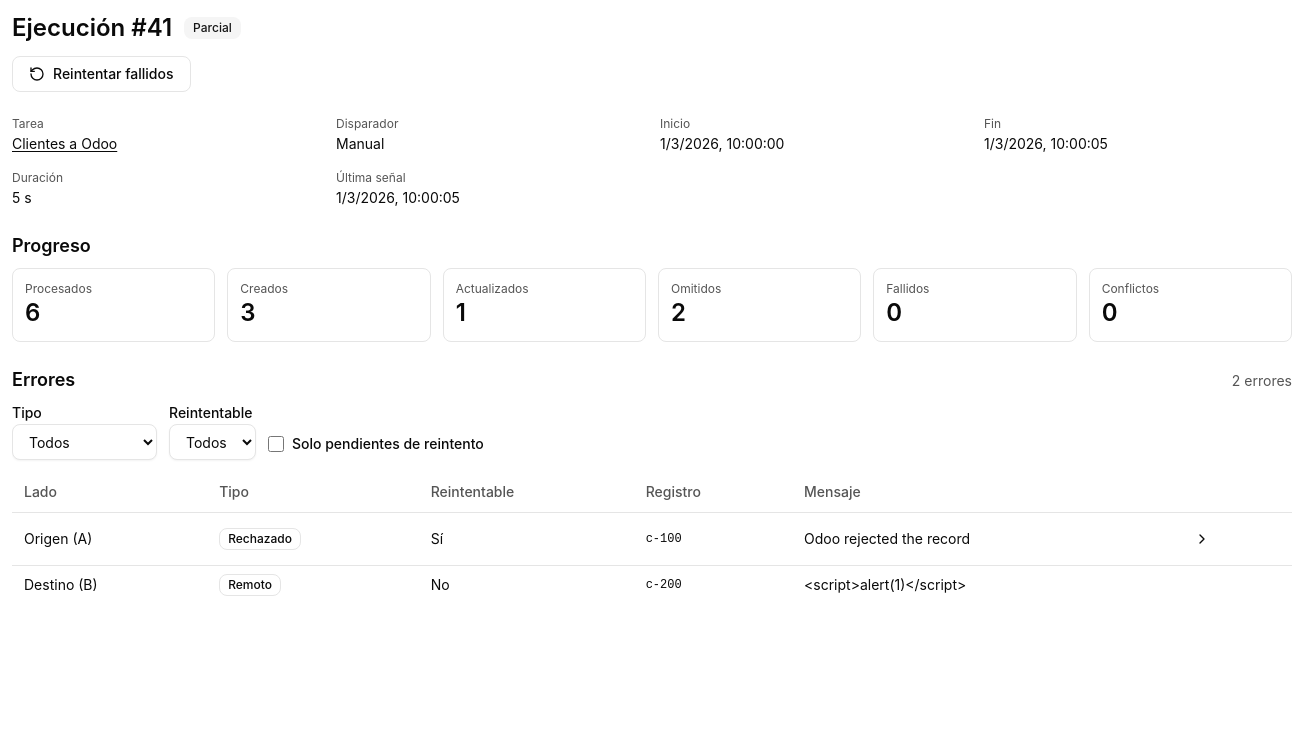
Test: RunDetailPage errors › expands the redacted payload on demand
expect the text "\"api_key\"" is not shown: met
Click the button named "Ver datos del registro c-100". click: (1202, 538)
box: [1184,520,1220,556]
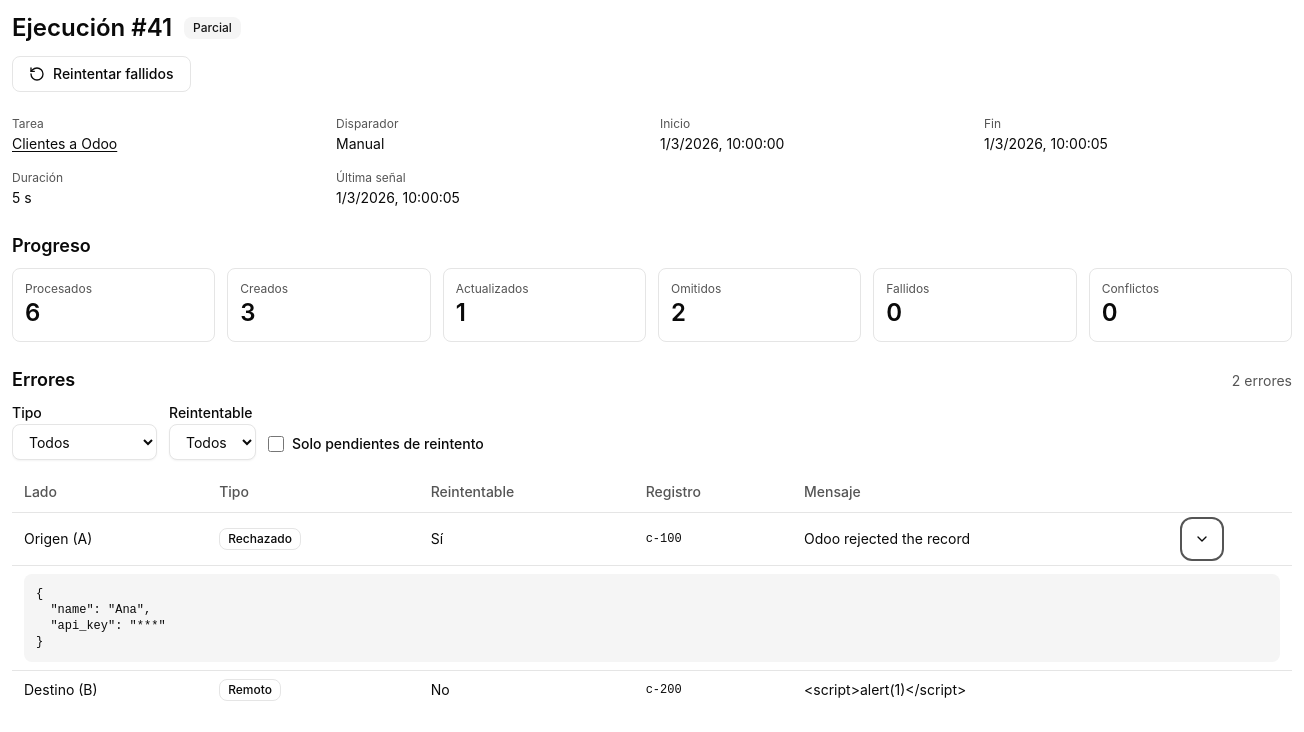
expect the button named "Ver datos del registro c-100" is expanded: met
expect the text "{ \"name\": \"Ana\", \"api_key\": \"***\" }" shows "\"api_key\": \"***\"": met, box [36,586,166,648]
Click the button named "Ver datos del registro c-100". click: (1202, 538)
box: [1184,520,1220,556]
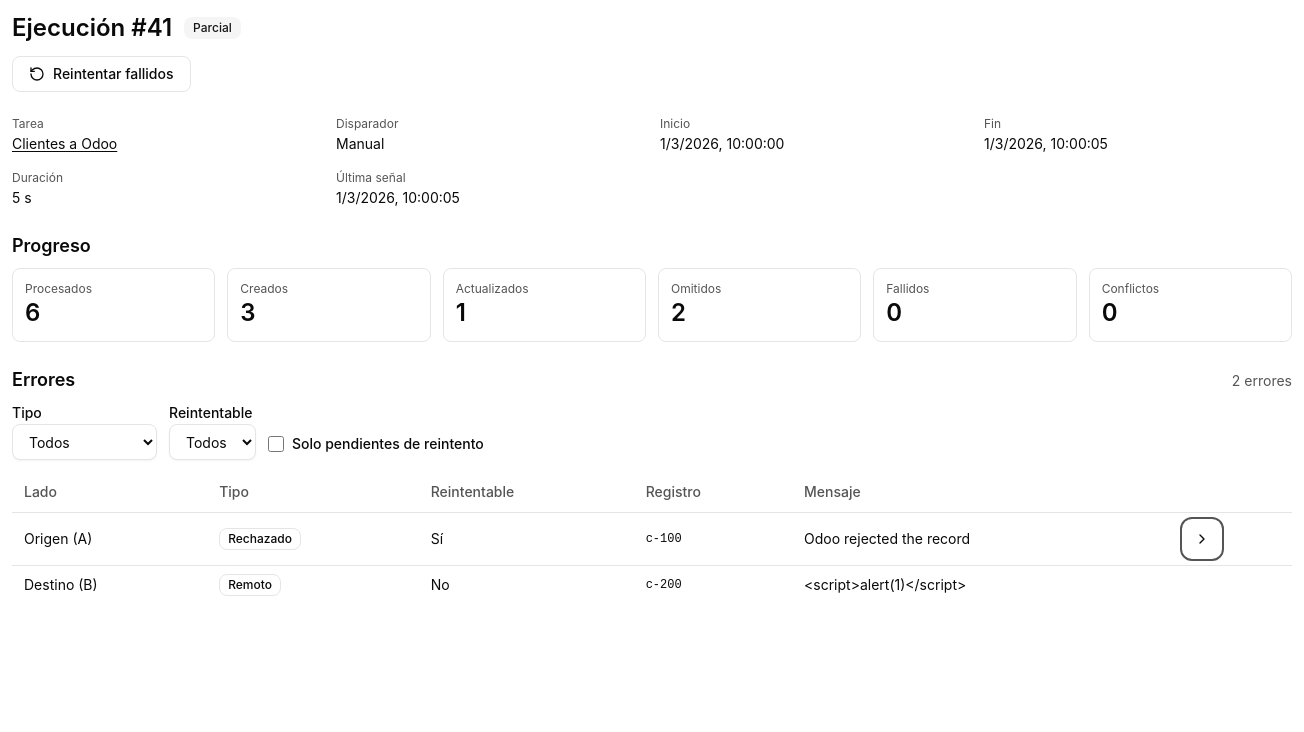
expect the text "\"api_key\"" is gone: met
